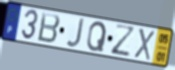3: (20, 8, 39, 42)
B: (36, 11, 62, 45)
J: (65, 18, 86, 50)
Q: (85, 20, 108, 53)
X: (133, 27, 156, 62)
Z: (110, 22, 137, 58)
